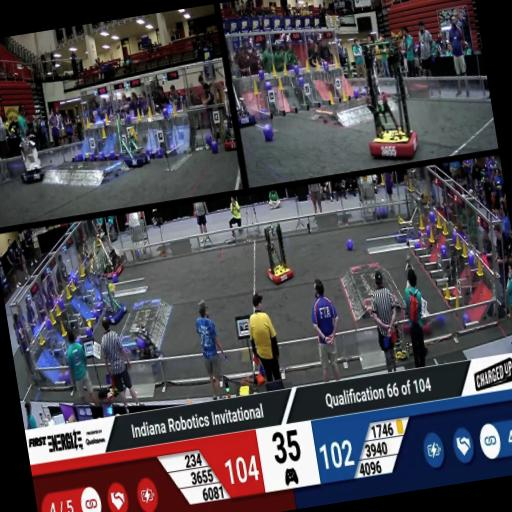robot: (352, 33, 426, 165), (391, 255, 436, 337), (108, 103, 152, 168), (257, 220, 295, 286), (211, 62, 238, 153), (122, 326, 168, 376), (13, 132, 50, 186), (357, 51, 390, 106), (96, 278, 130, 327), (93, 231, 126, 281), (230, 75, 258, 128), (388, 204, 422, 244)
